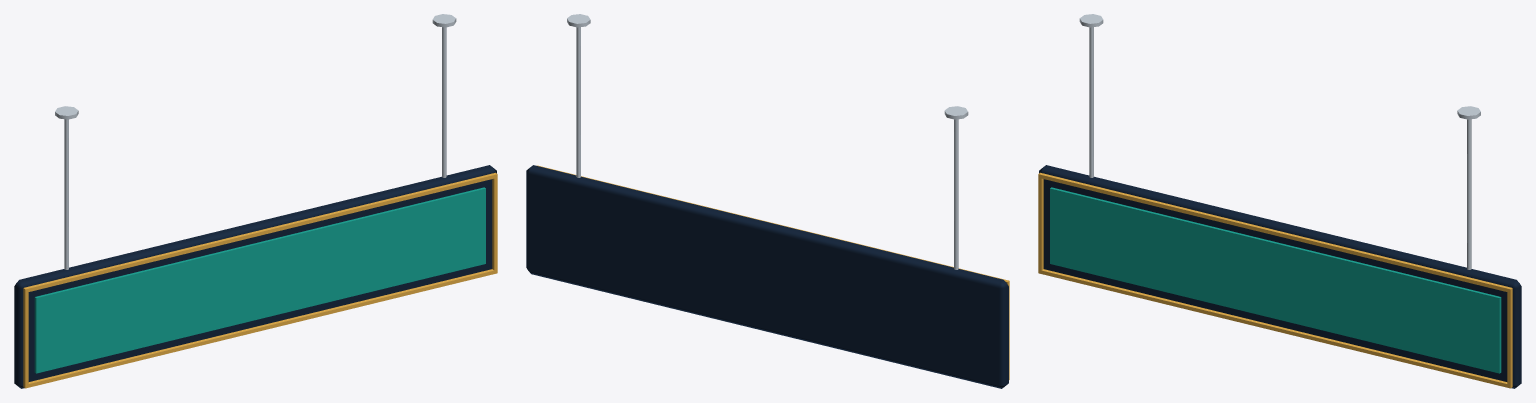
File: CM_Decor_CheckoutSign.fbx
3 renders of one model, left to right at view 1: azimuth 30°, elevation 25°; view 2: azimuth 150°, elevation 25°; view 3: azimuth 330°, elevation 25°, orthographic.
Parts seen in each view (by area): view 1: Face, Body, Neon, Rods; view 2: Body, Rods, Neon; view 3: Face, Body, Neon, Rods.
Boxes of the visible parts, box(x1,y1,x2,y2) form: Face: box(34, 187, 485, 373); Body: box(14, 165, 496, 388); Neon: box(23, 172, 497, 388); Rods: box(55, 14, 456, 269); Body: box(526, 165, 1008, 388); Rods: box(567, 14, 968, 269); Neon: box(537, 165, 1009, 379); Face: box(1050, 187, 1501, 373); Body: box(1039, 165, 1521, 388); Neon: box(1038, 172, 1512, 388); Rods: box(1079, 14, 1480, 269).
Size of the model in its own units: 14 by 0.5772 by 7.4.
1 material, 1 textured.
